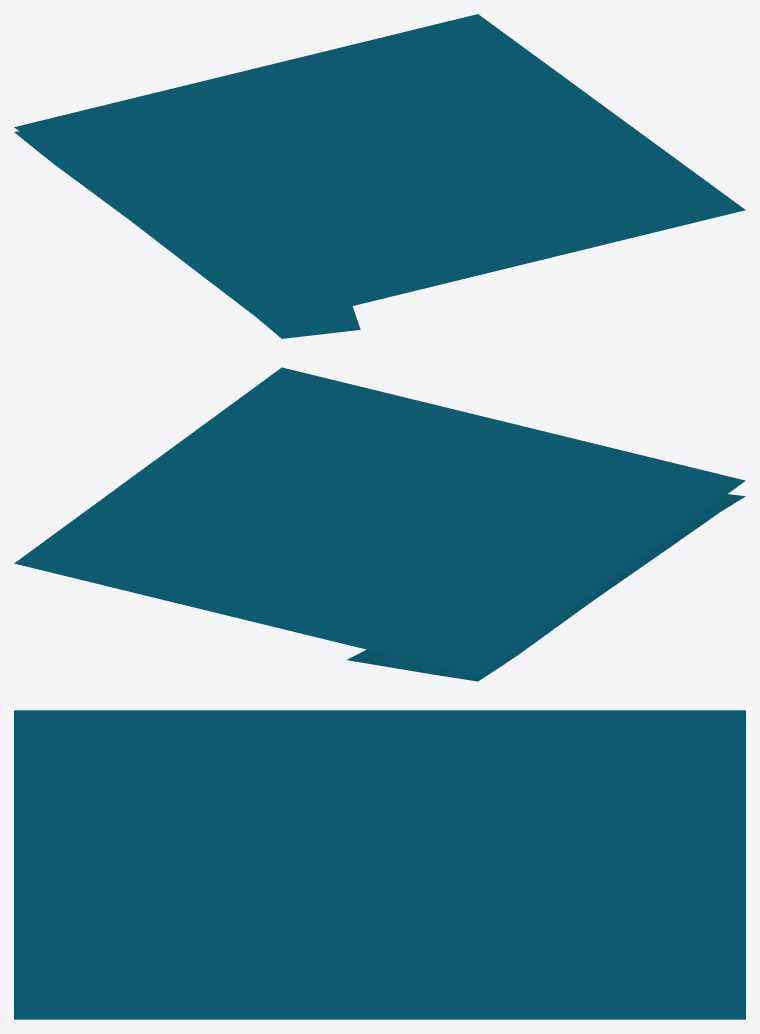
3 views of the same model, one above another, from view 1: azimuth 30°, elevation 25°; view 2: azimuth 150°, elevation 25°; view 3: azimuth 270°, elevation 25° (orthographic). The views are drawn at different scales.
Parts seen in each view (by area): view 1: G:\FFXIV-MapTools\exports\s1f3\bg\ffxiv\sea_s1\fld\s1f3\bgpl; view 2: G:\FFXIV-MapTools\exports\s1f3\bg\ffxiv\sea_s1\fld\s1f3\bgpl; view 3: G:\FFXIV-MapTools\exports\s1f3\bg\ffxiv\sea_s1\fld\s1f3\bgpl.
Boxes of the visible parts, x1,y1,x2,y2 form: G:\FFXIV-MapTools\exports\s1f3\bg\ffxiv\sea_s1\fld\s1f3\bgpl: (14, 14, 745, 338); G:\FFXIV-MapTools\exports\s1f3\bg\ffxiv\sea_s1\fld\s1f3\bgpl: (14, 367, 745, 681); G:\FFXIV-MapTools\exports\s1f3\bg\ffxiv\sea_s1\fld\s1f3\bgpl: (14, 710, 745, 1019).
Size of the model in its own units: 128 by 6.77 by 128.
